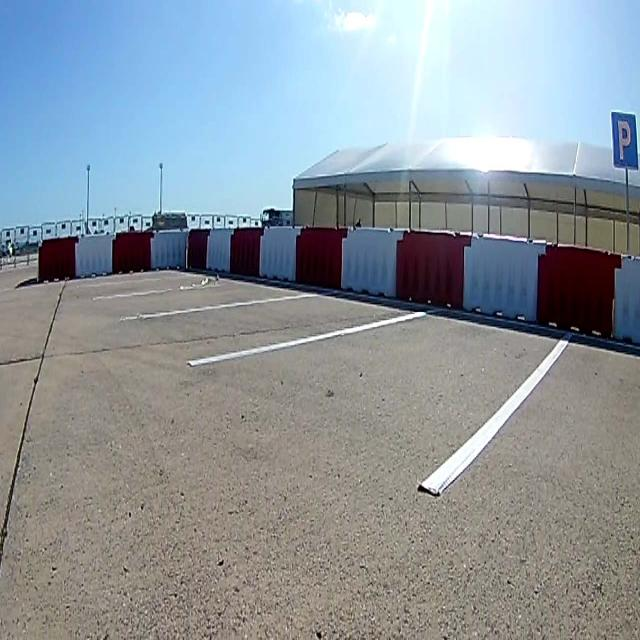park: (610, 112, 638, 170)
